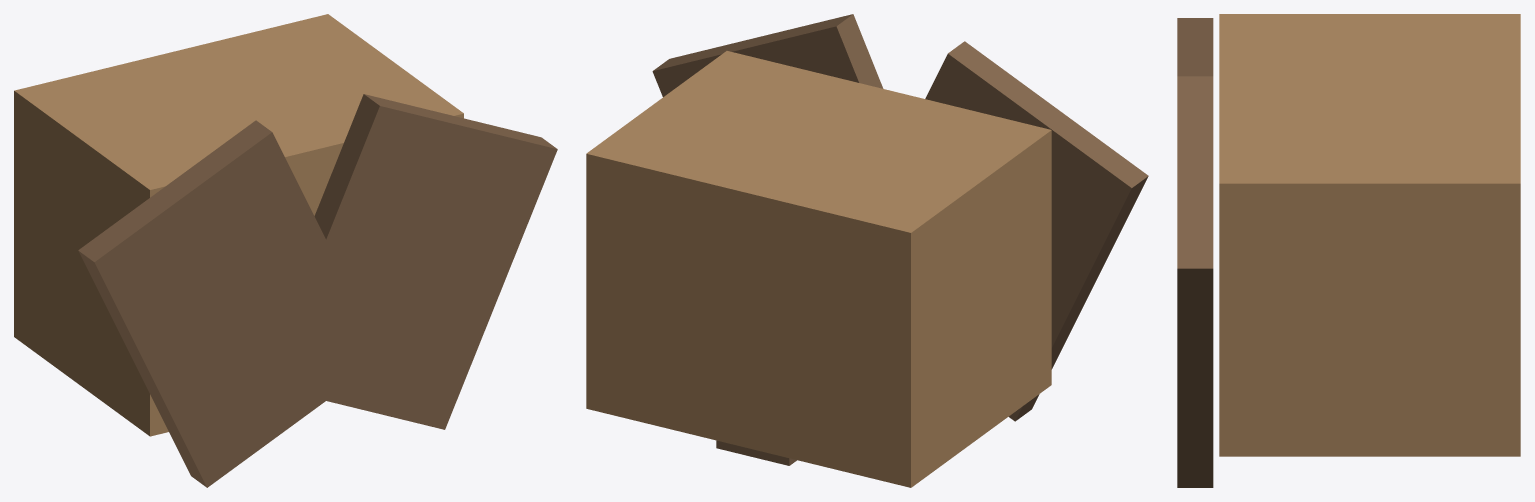
The model's file is shopfront_facade.glb.
The picture shows the model from 3 angles, left to right: view 1: azimuth 30°, elevation 25°; view 2: azimuth 150°, elevation 25°; view 3: azimuth 270°, elevation 25°; orthographic projection. The views are drawn at different scales.
Visible parts, largest first — view 1: building_body, roof_left, roof_right; view 2: building_body, roof_left, roof_right, door; view 3: building_body, roof_right, roof_left.
Part boxes in pixels (left/top/right/bottom): building_body: left=14, top=14, right=463, bottom=436; roof_left: left=78, top=120, right=384, bottom=487; roof_right: left=267, top=94, right=557, bottom=429; building_body: left=586, top=51, right=1051, bottom=487; roof_left: left=925, top=41, right=1148, bottom=421; roof_right: left=652, top=14, right=883, bottom=96; door: left=716, top=440, right=796, bottom=465; building_body: left=1219, top=14, right=1520, bottom=456; roof_right: left=1177, top=76, right=1213, bottom=487; roof_left: left=1177, top=18, right=1213, bottom=76.
Bounding box in the file's own units: 2.95 × 2.07 × 1.71.
